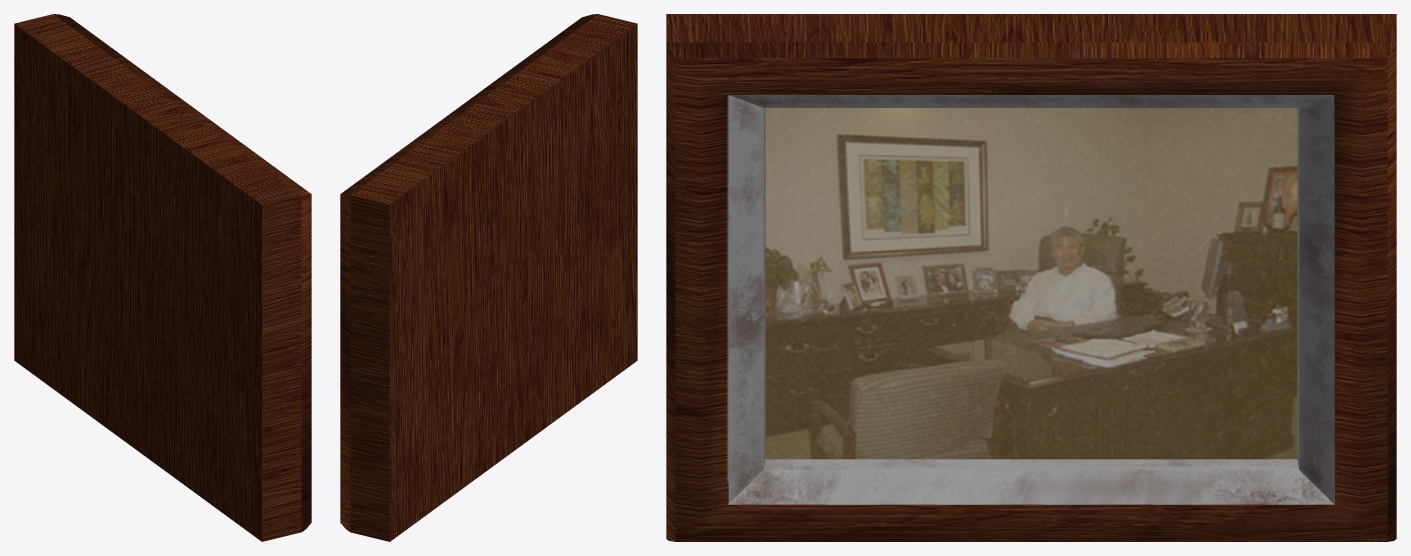
Rendered from frame2_2_david office.FBX.
3 views of the same model, side by side, from view 1: azimuth 30°, elevation 25°; view 2: azimuth 150°, elevation 25°; view 3: azimuth 270°, elevation 25° (orthographic). The views are drawn at different scales.
Parts seen in each view (by area): view 1: frame008; view 2: frame008; view 3: frame008.
Part boxes in pixels (bbox=[...]): frame008: bbox=[14, 14, 311, 541]; frame008: bbox=[340, 14, 637, 541]; frame008: bbox=[666, 14, 1396, 541].
Bounding box in the file's own units: 3.74 × 20.53 × 27.37.
Materials: 1 (1 with a texture image).
